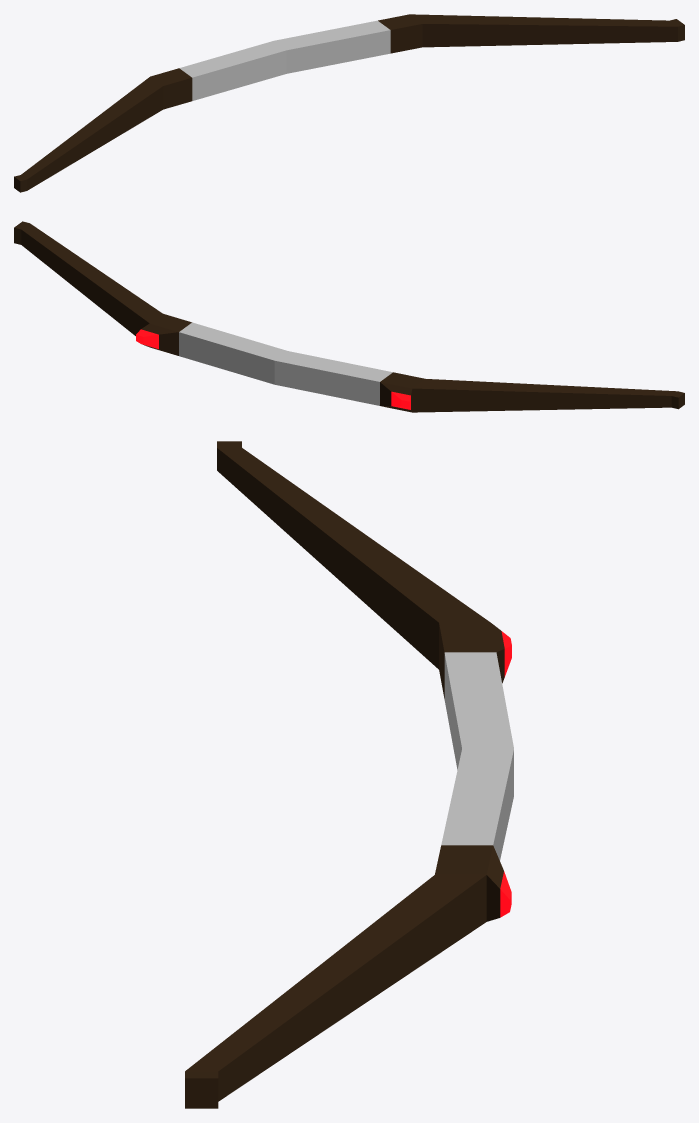
File: bow.fbx
3 views of the same model, one above another, from view 1: azimuth 30°, elevation 25°; view 2: azimuth 150°, elevation 25°; view 3: azimuth 270°, elevation 25° (orthographic). The views are drawn at different scales.
Parts seen in each view (by area): view 1: Cube; view 2: Cube; view 3: Cube.
Part boxes in pixels (x1=…): Cube: x1=14, y1=14, x2=684, y2=192; Cube: x1=14, y1=221, x2=684, y2=412; Cube: x1=185, y1=441, x2=513, y2=1108.
Size of the model in its own units: 5835 by 200 by 1267.
